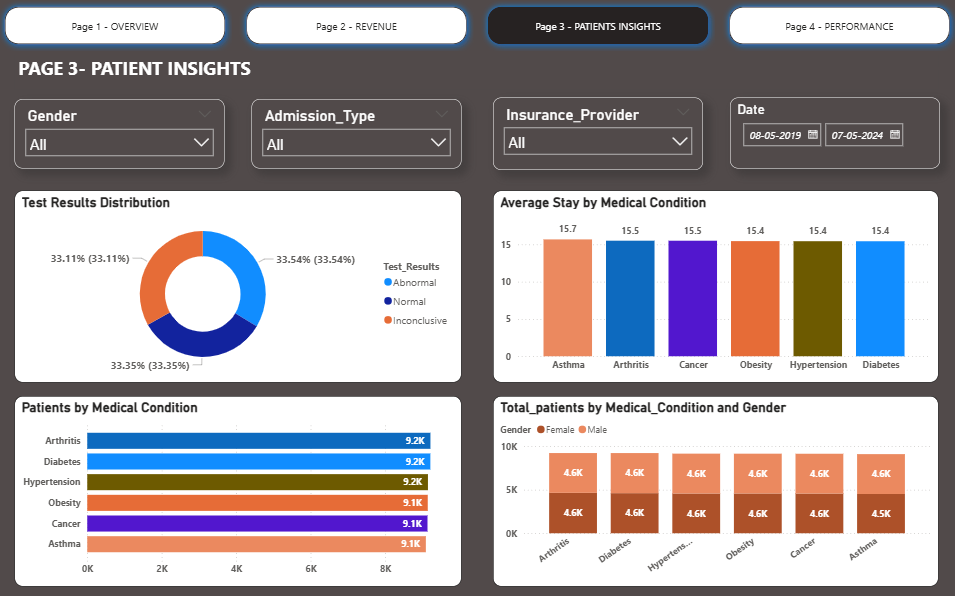

The dashboard page shown, as its layout file describes it:
{"tool":"powerbi","page":{"name":"Page 3 - PATIENTS INSIGHTS","canvas":[1280,800],"ordinal":2},"visuals":[{"type":"slicer","fields":{"Values":["healthcare_data.Gender"]},"box":[22.7,132.3,279.7,92.6],"z":0},{"type":"slicer","fields":{"Values":["healthcare_data.Admission_Type"]},"box":[338.3,132.3,279.7,92.6],"z":1000},{"type":"slicer","fields":{"Values":["healthcare_data.Insurance_Provider"]},"box":[659.5,130.4,279.7,96.4],"z":2000},{"type":"slicer","title":"Date","fields":{"Values":["Calendar.Date"]},"box":[975.1,130.4,279.7,94.5],"z":3000},{"type":"clusteredBarChart","title":"Patients by Medical Condition","fields":{"Category":["healthcare_data.Medical_Condition"],"Y":["healthcare_data.Total_patients"]},"box":[22,528,596,254],"z":4000},{"type":"textbox","box":[22.7,68,1232.1,51],"z":5000},{"type":"columnChart","title":"Average Stay by Medical Condition","fields":{"Category":["healthcare_data.Medical_Condition"],"Y":["healthcare_data.Average_Stay"]},"box":[660,254,594,256],"z":6000},{"type":"donutChart","title":"Test Results Distribution","fields":{"Category":["healthcare_data.Test_Results"],"Y":["Divide(CountNonNull(healthcare_data.Name), ScopedEval(CountNonNull(healthcare_data.Name), []))"]},"box":[22,254,596,256],"z":7000},{"type":"pageNavigator","box":[0,0,1279.4,68],"z":8000},{"type":"columnChart","fields":{"Category":["healthcare_data.Medical_Condition"],"Series":["healthcare_data.Gender"],"Y":["healthcare_data.Total_patients"]},"box":[660,528,594,254],"z":9000}]}

Visuals, with their boxes in screenshot pixels (x1, y1, x2, y2), scaled from the page's 1280x800 canvas onto the 955x596 screenshot:
slicer - healthcare_data.Gender: bbox=(17, 99, 226, 168)
slicer - healthcare_data.Admission_Type: bbox=(252, 99, 461, 168)
slicer - healthcare_data.Insurance_Provider: bbox=(492, 97, 701, 169)
"Date" slicer: bbox=(728, 97, 936, 168)
"Patients by Medical Condition" clusteredBarChart: bbox=(16, 393, 461, 583)
textbox: bbox=(17, 51, 936, 89)
"Average Stay by Medical Condition" columnChart: bbox=(492, 189, 936, 380)
"Test Results Distribution" donutChart: bbox=(16, 189, 461, 380)
pageNavigator: bbox=(0, 0, 954, 51)
columnChart - healthcare_data.Medical_Condition x healthcare_data.Gender: bbox=(492, 393, 936, 583)
